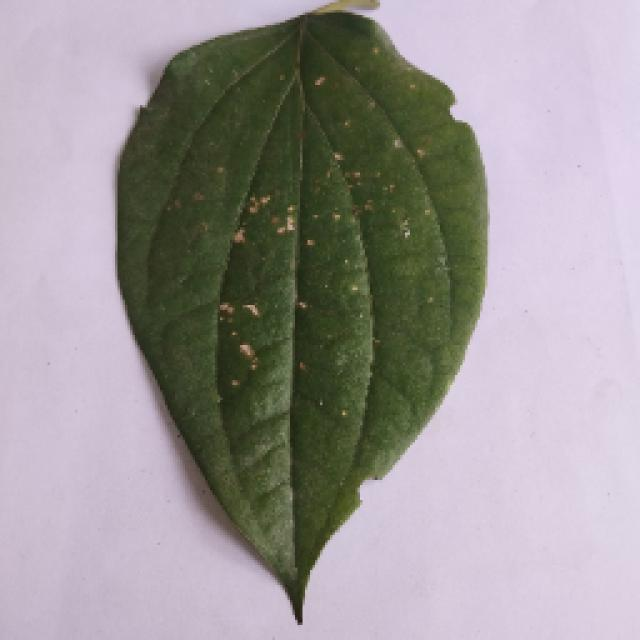pollu-disease: (100, 12, 498, 620)
